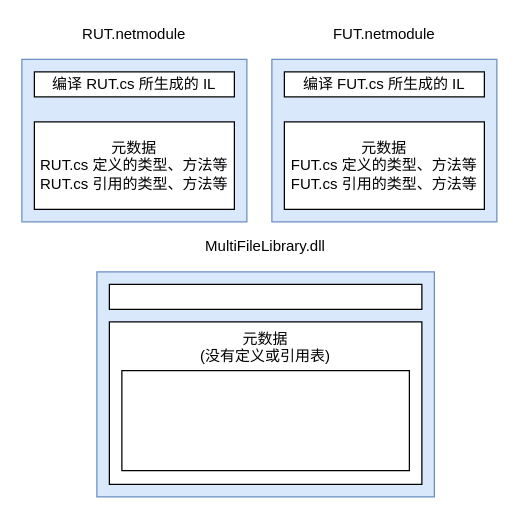
Some shapes in this 519 by 519 pixel diagram are drawn without their labels. The centre of each missing label's shape, as x and y in pixels:
(无IL): (x=265, y=296)
清单 程序集文件 (本身，RUT.netmodule和FUT.netmodule) 公共程序集类型 (RUT.netmodule和FUT.netmodule): (x=265, y=420)
